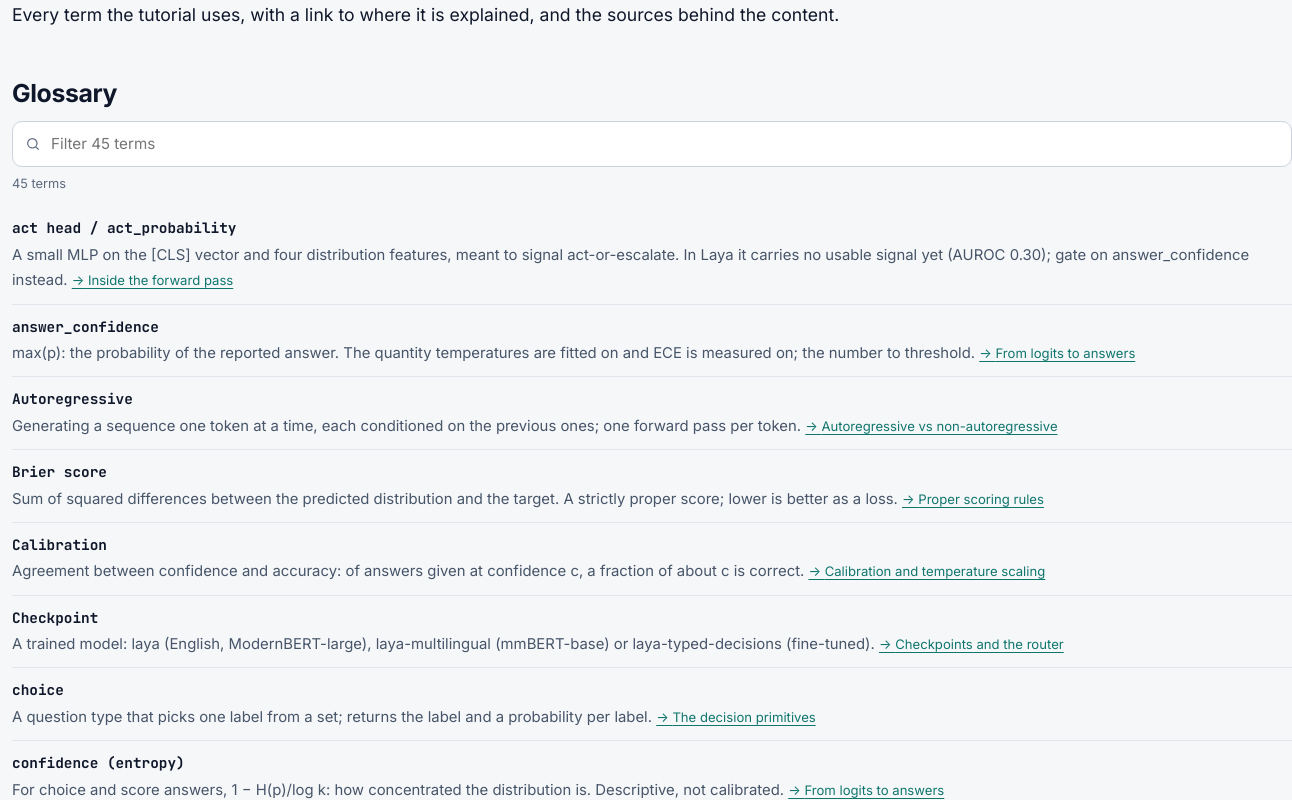
glossary › filters terms
Type "rlcd" into the search field named "Filter glossary terms".
click(664, 144); type("rlcd")  # box [49, 130, 1279, 158]
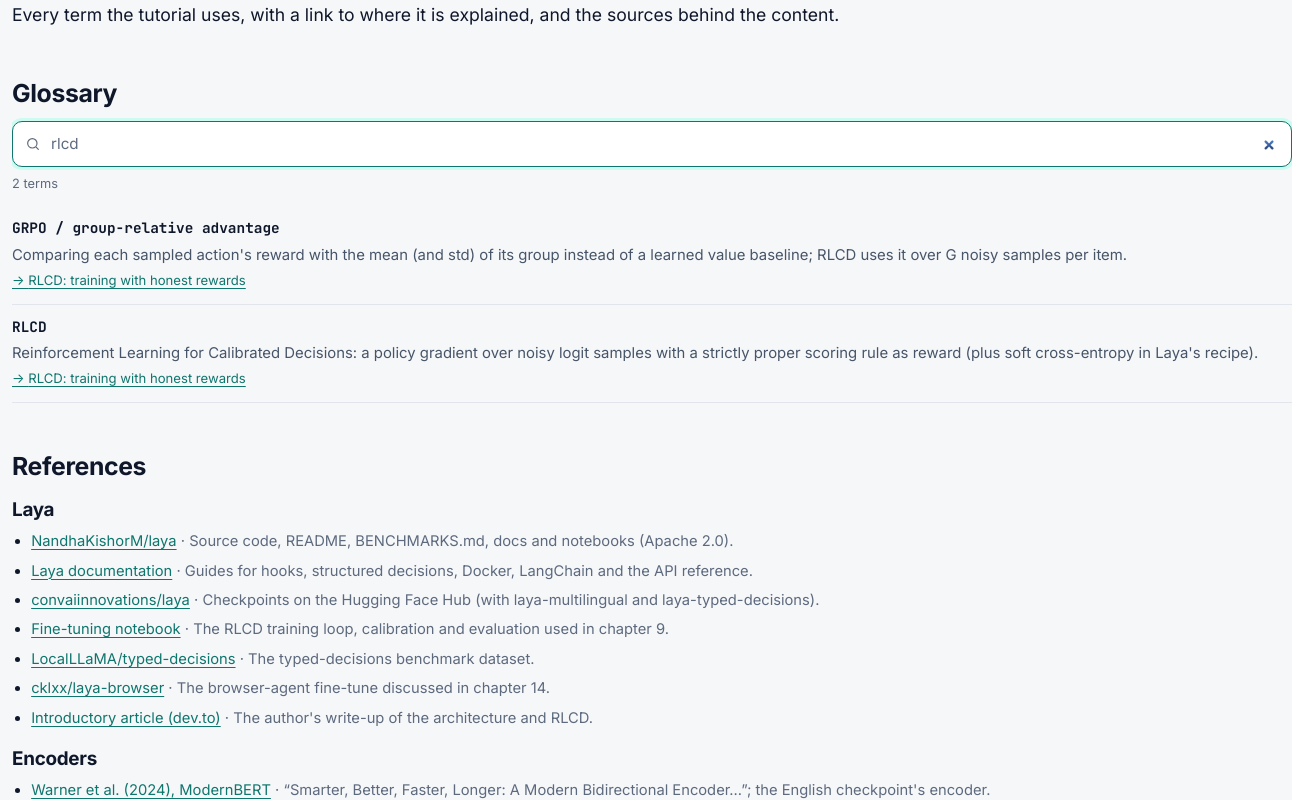
Check: the text "RLCD" is shown, box [12, 316, 46, 336]
Check: the text "Brier score" is gone
